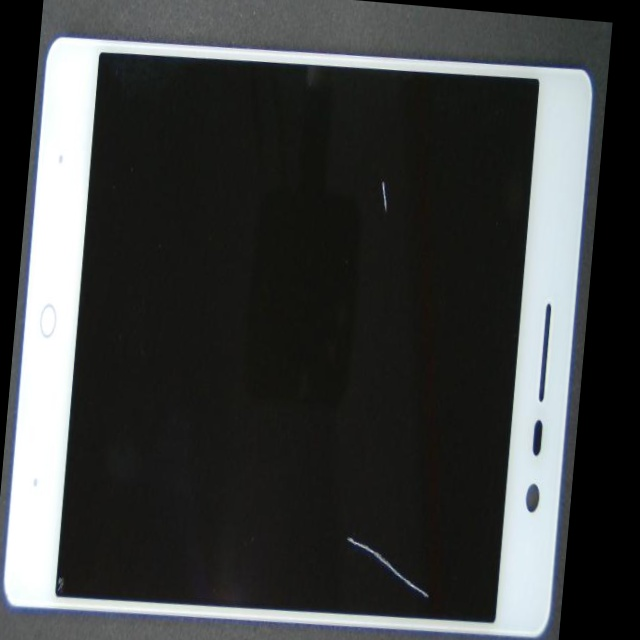scratch: (266, 320, 584, 640), (203, 46, 561, 287)
